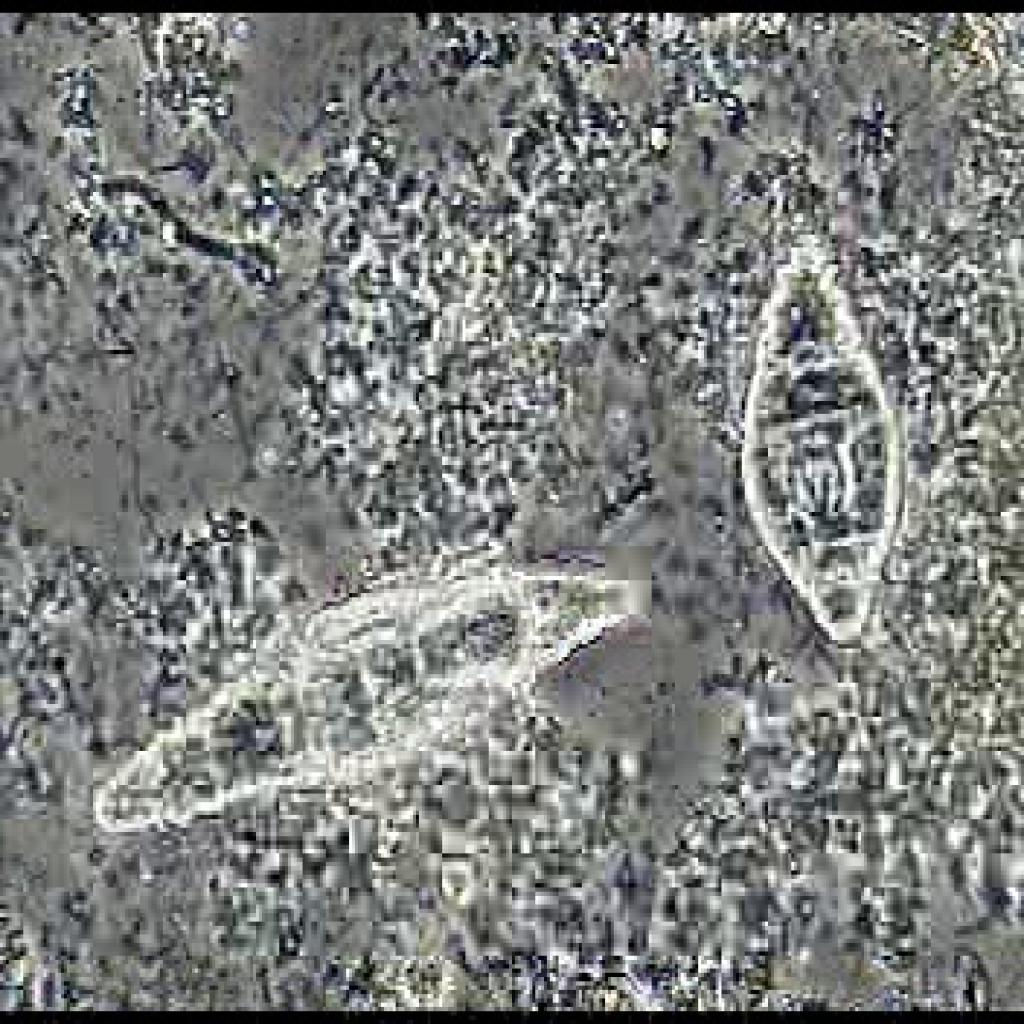Rotatoria: (89, 538, 673, 870), (732, 233, 920, 672)
